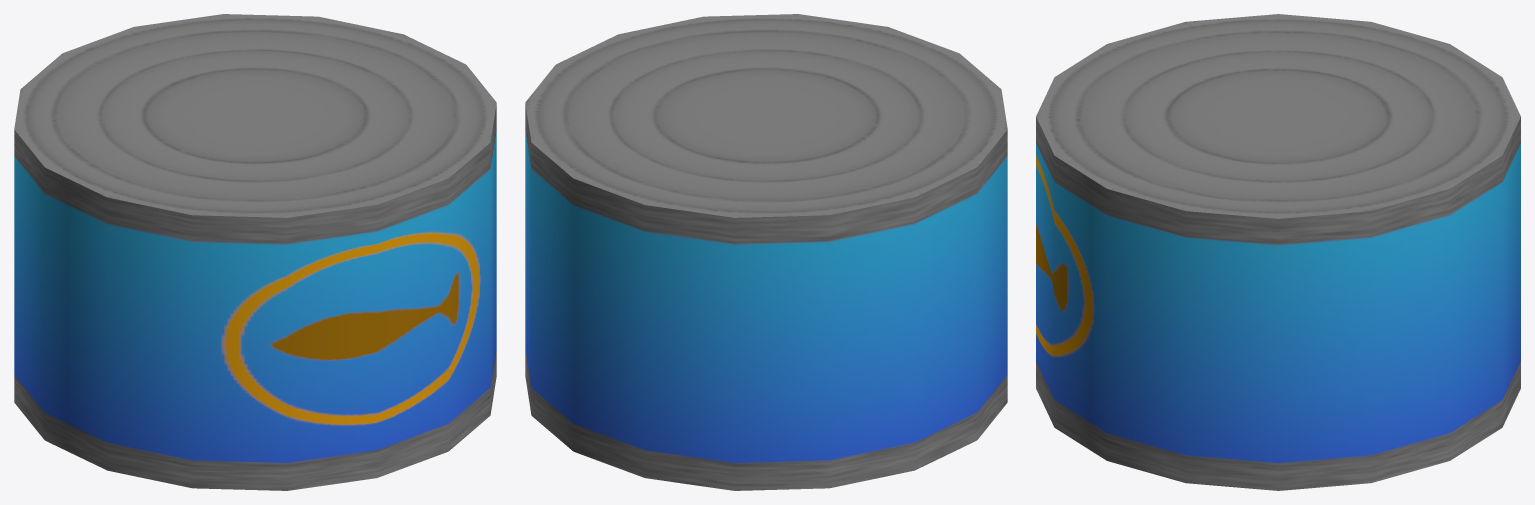
The model's file is tincanfish2.glb.
The picture shows the model from 3 angles, left to right: view 1: azimuth 30°, elevation 25°; view 2: azimuth 150°, elevation 25°; view 3: azimuth 270°, elevation 25°; orthographic projection.
Parts seen in each view (by area): view 1: tincanfish2; view 2: tincanfish2; view 3: tincanfish2.
Part boxes in pixels (x1,y1,x2,y2): tincanfish2: (14, 14, 496, 490); tincanfish2: (525, 14, 1007, 490); tincanfish2: (1036, 14, 1520, 490).
Size of the model in its own units: 0.3916 by 0.2424 by 0.3916.
1 material, 1 textured.
